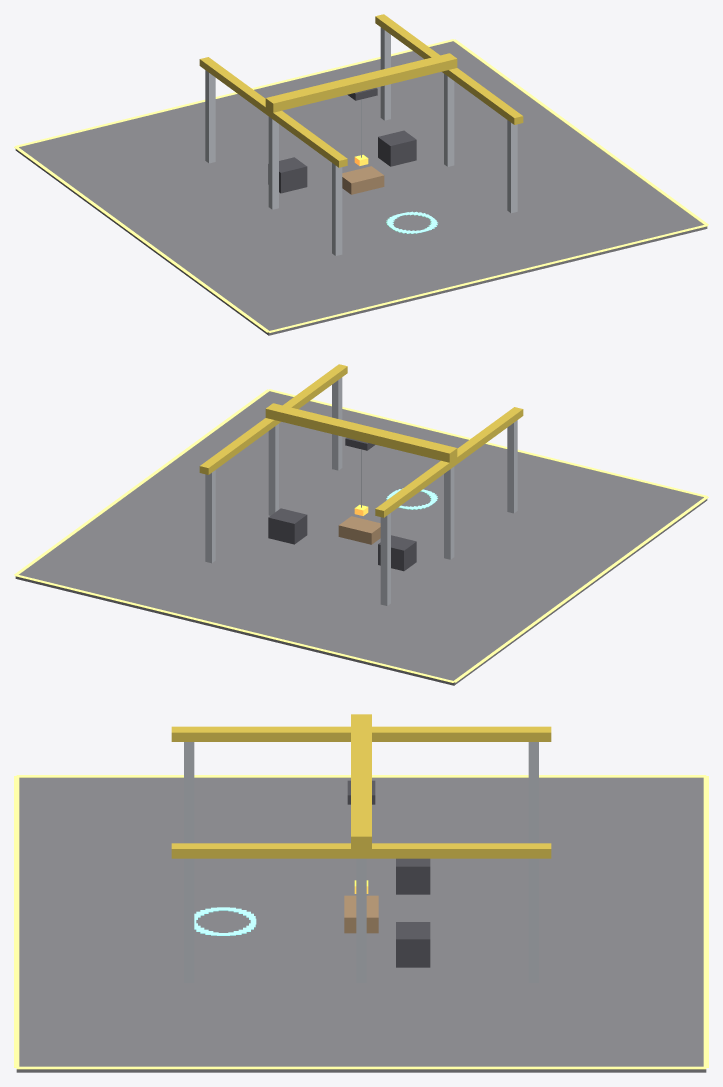
Rendered from sim-overhead-crane.glb.
3 views of the same model, one above another, from view 1: azimuth 30°, elevation 25°; view 2: azimuth 150°, elevation 25°; view 3: azimuth 270°, elevation 25° (orthographic). The views are drawn at different scales.
Visible parts, largest first — view 1: Overhead Crane Shop Move; view 2: Overhead Crane Shop Move; view 3: Overhead Crane Shop Move.
Boxes of the visible parts, x1,y1,x2,y2 form: Overhead Crane Shop Move: (14, 14, 708, 335); Overhead Crane Shop Move: (14, 364, 708, 685); Overhead Crane Shop Move: (14, 714, 708, 1072).
Bounding box in the file's own units: 40.3 × 9.7 × 40.3.
